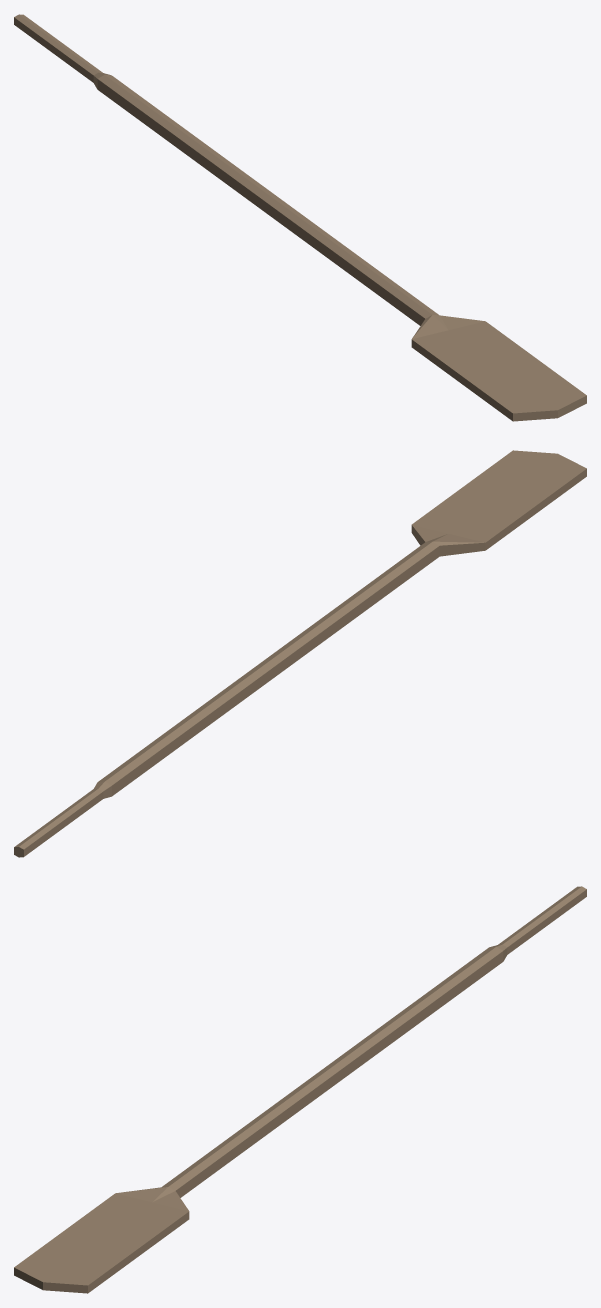
The model's file is SM_Prop_Oar_01.glb.
The picture shows the model from 3 angles, top to bottom: view 1: azimuth 30°, elevation 25°; view 2: azimuth 150°, elevation 25°; view 3: azimuth 330°, elevation 25°; orthographic projection.
Parts seen in each view (by area): view 1: SM_Prop_Oar_01_part00; view 2: SM_Prop_Oar_01_part00; view 3: SM_Prop_Oar_01_part00.
Boxes of the visible parts, x1,y1,x2,y2 form: SM_Prop_Oar_01_part00: [14, 14, 586, 421]; SM_Prop_Oar_01_part00: [14, 450, 586, 857]; SM_Prop_Oar_01_part00: [14, 886, 586, 1293].
Bounding box in the file's own units: 0.277 × 0.0553 × 3.49.
Materials: 1 (1 with a texture image).
